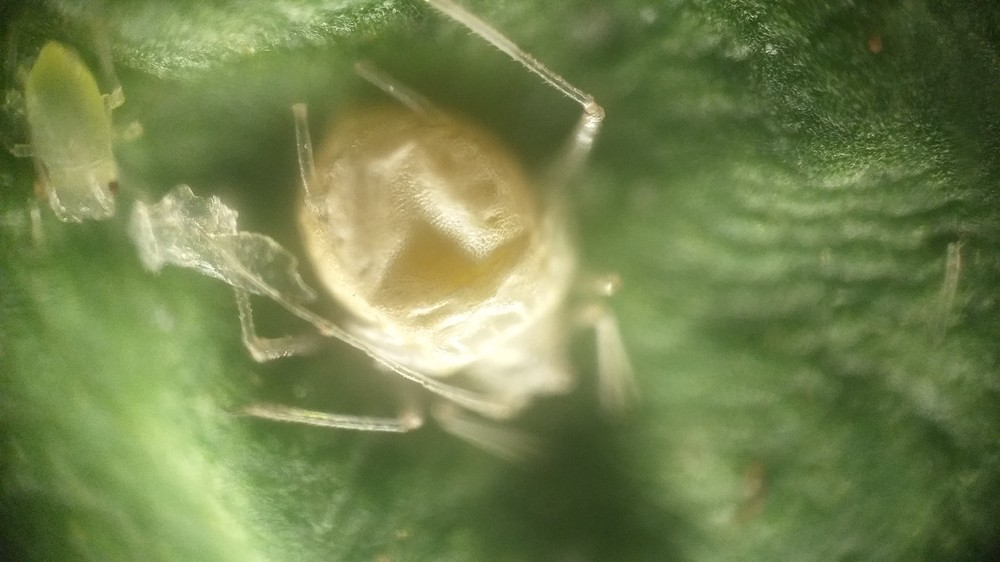Pulgon: (235, 13, 724, 499), (6, 25, 177, 259)
